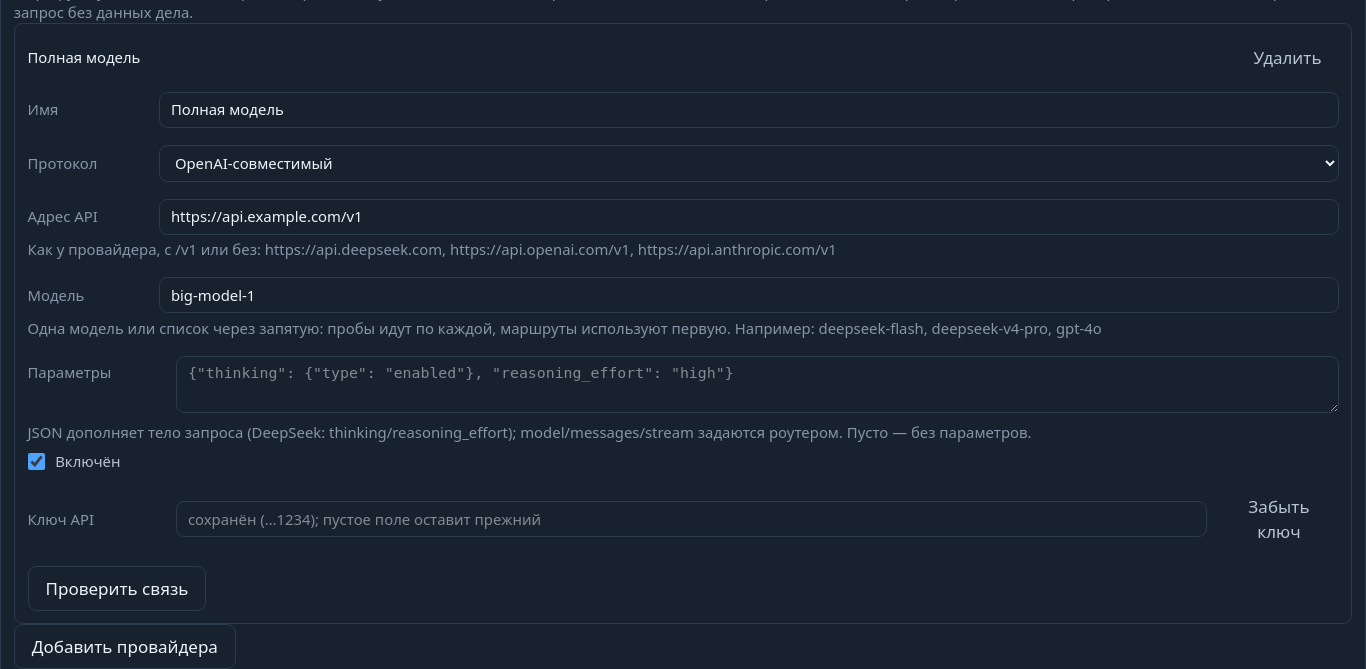
Test: панель «Модельный роутер ИИ» › некорректный JSON параметров показывает ошибку и не отправляет
The width and height of the screenshot is (1366, 669).
Type "не json" into the text box named "Дополнительные параметры" at (757, 384), box 176,356 -> 1339,413
(page scrolled)
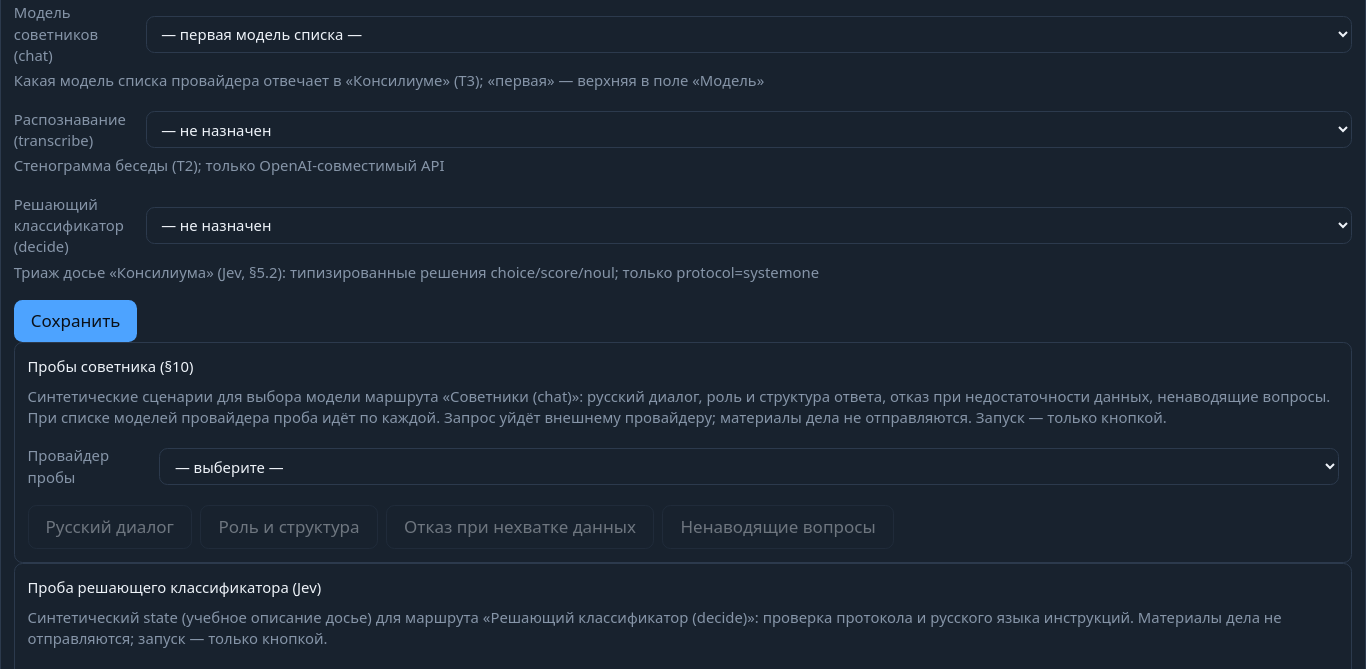
Click the button "Сохранить" at (76, 321), box 14,300 -> 137,342
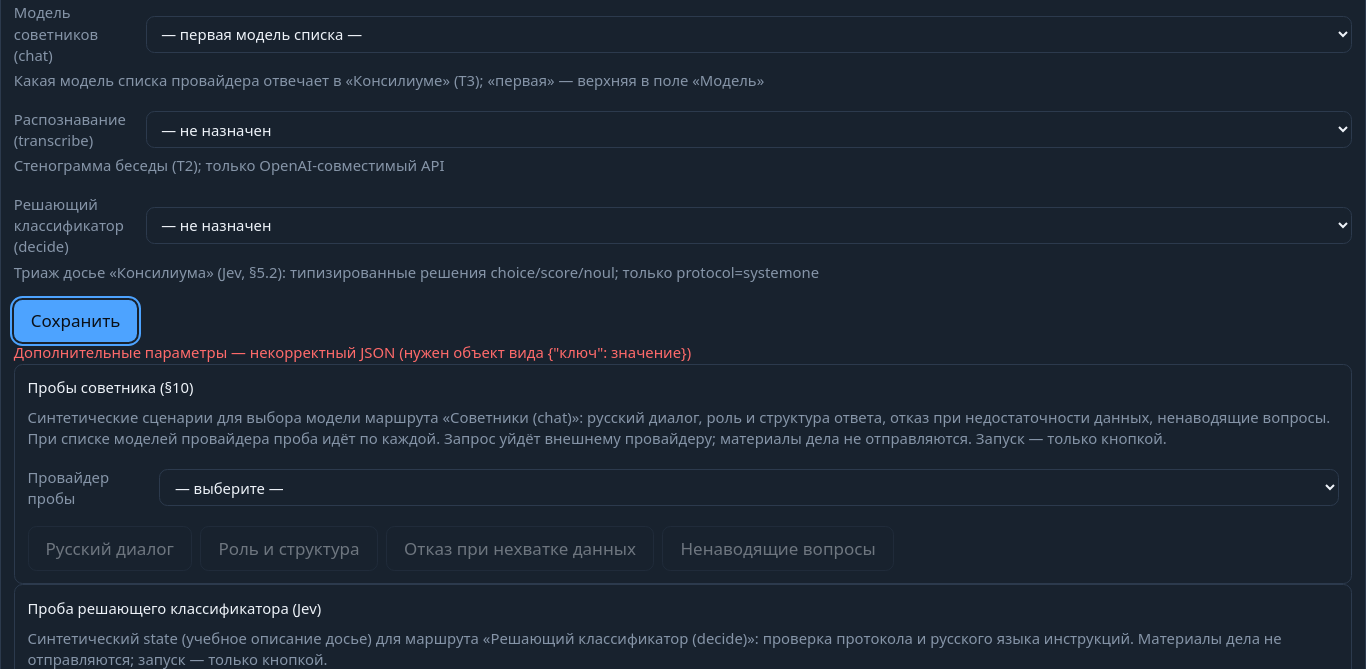
Result: the text "Дополнительные параметры — некорректный JSON" is shown at 14,342 -> 691,362
